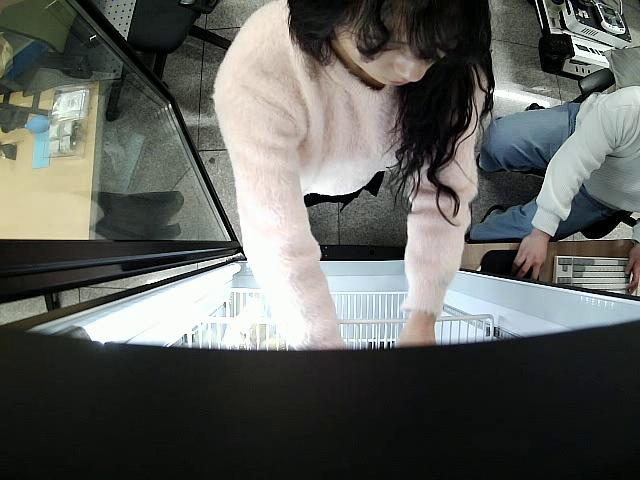00_hand: (514, 231, 549, 280), (623, 244, 640, 295)
